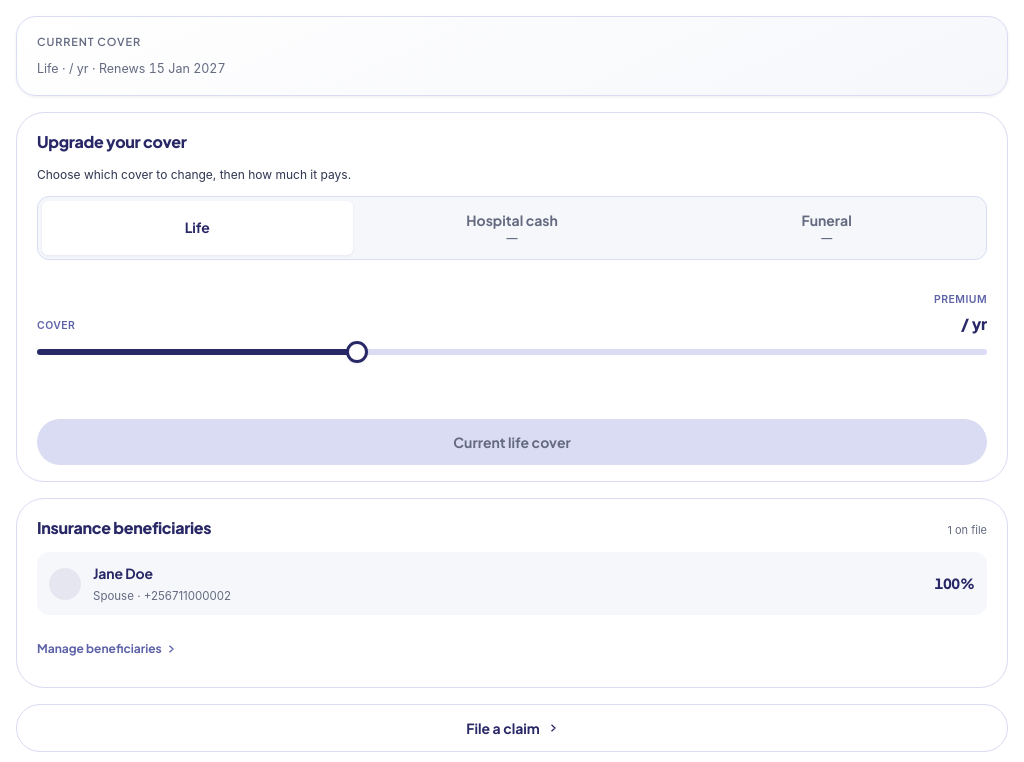
Test: InsurancePage › non-adjustable policies › a building policy › seeds the build speed from the stored schedule and gates save until it changes
Click the radio button labelled "Funeral —": point(827, 228) [671,201,982,255]
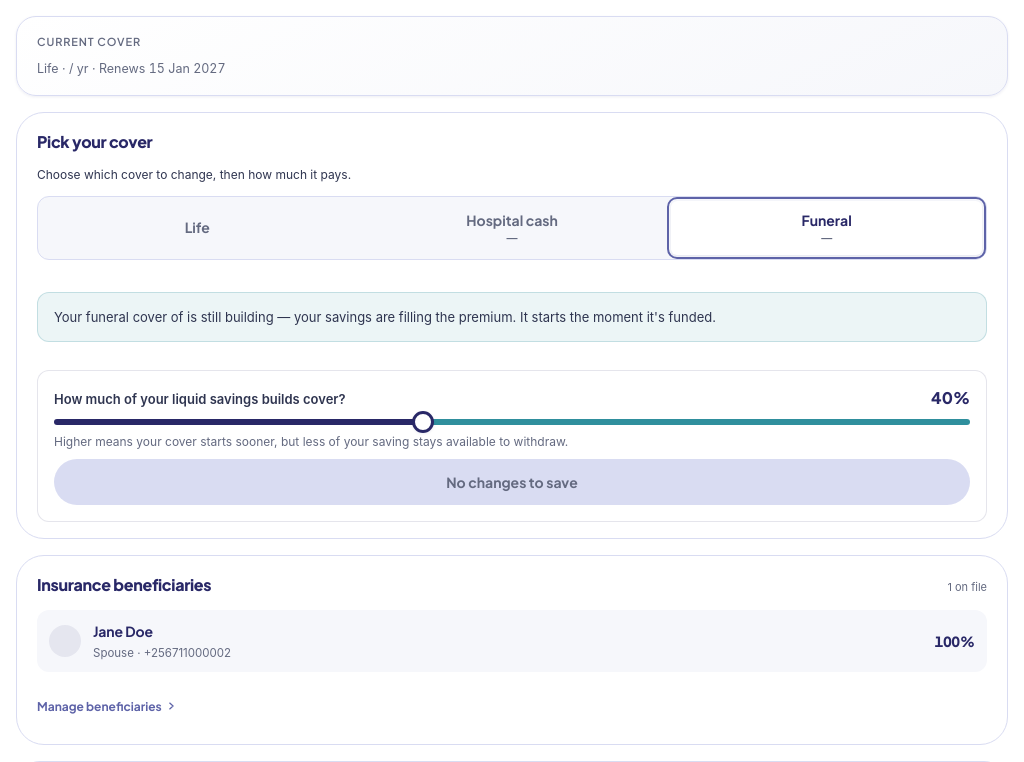
Expected: the button "No changes to save" is disabled, [54,459,970,505]
Now the slider named "percent of liquid savings that builds cover" holds "40", box [54,419,970,425]
